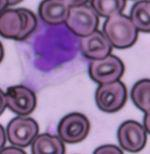M: (15, 18, 83, 91)
